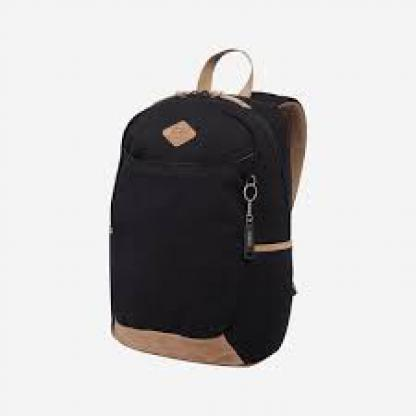morral: (106, 32, 314, 372)
